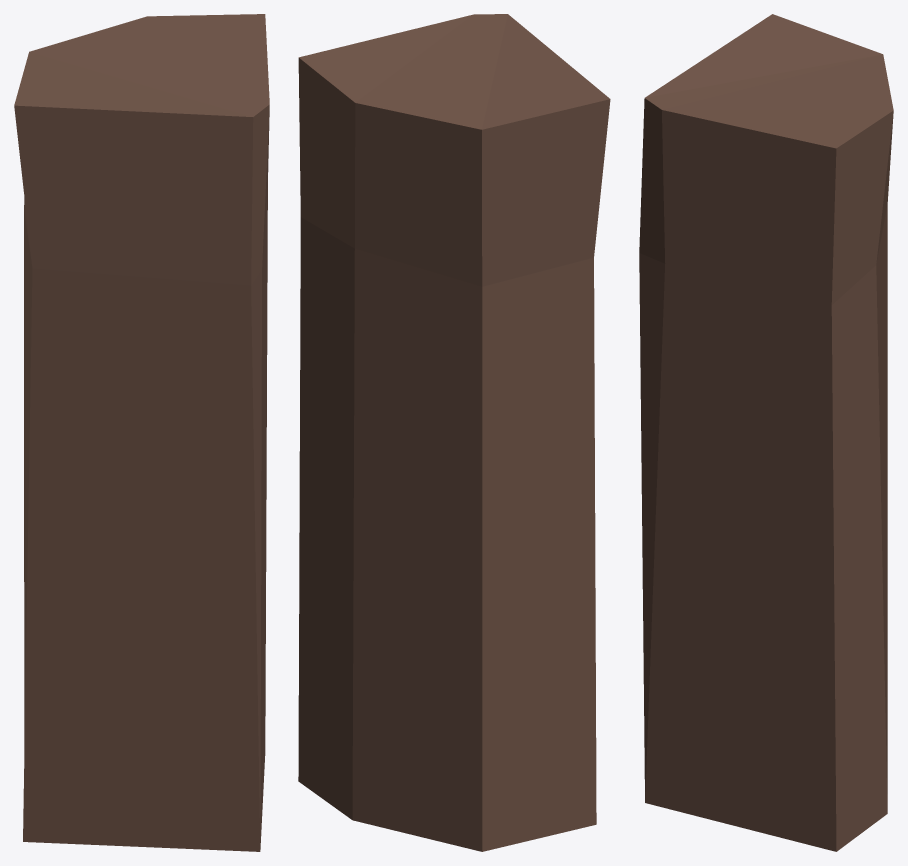
The model's file is Rock.005.fbx.
The picture shows the model from 3 angles, left to right: view 1: azimuth 30°, elevation 25°; view 2: azimuth 150°, elevation 25°; view 3: azimuth 270°, elevation 25°; orthographic projection. The views are drawn at different scales.
Parts seen in each view (by area): view 1: Rock.005; view 2: Rock.005; view 3: Rock.005.
Part boxes in pixels (x1,y1,x2,y2): Rock.005: [14, 14, 269, 851]; Rock.005: [298, 14, 610, 851]; Rock.005: [639, 14, 893, 851].
Bounding box in the file's own units: 190 × 473 × 155.
